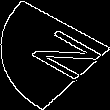N_SE: (9, 23, 101, 87)
